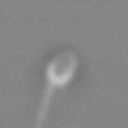normal: (32, 82, 54, 128)
